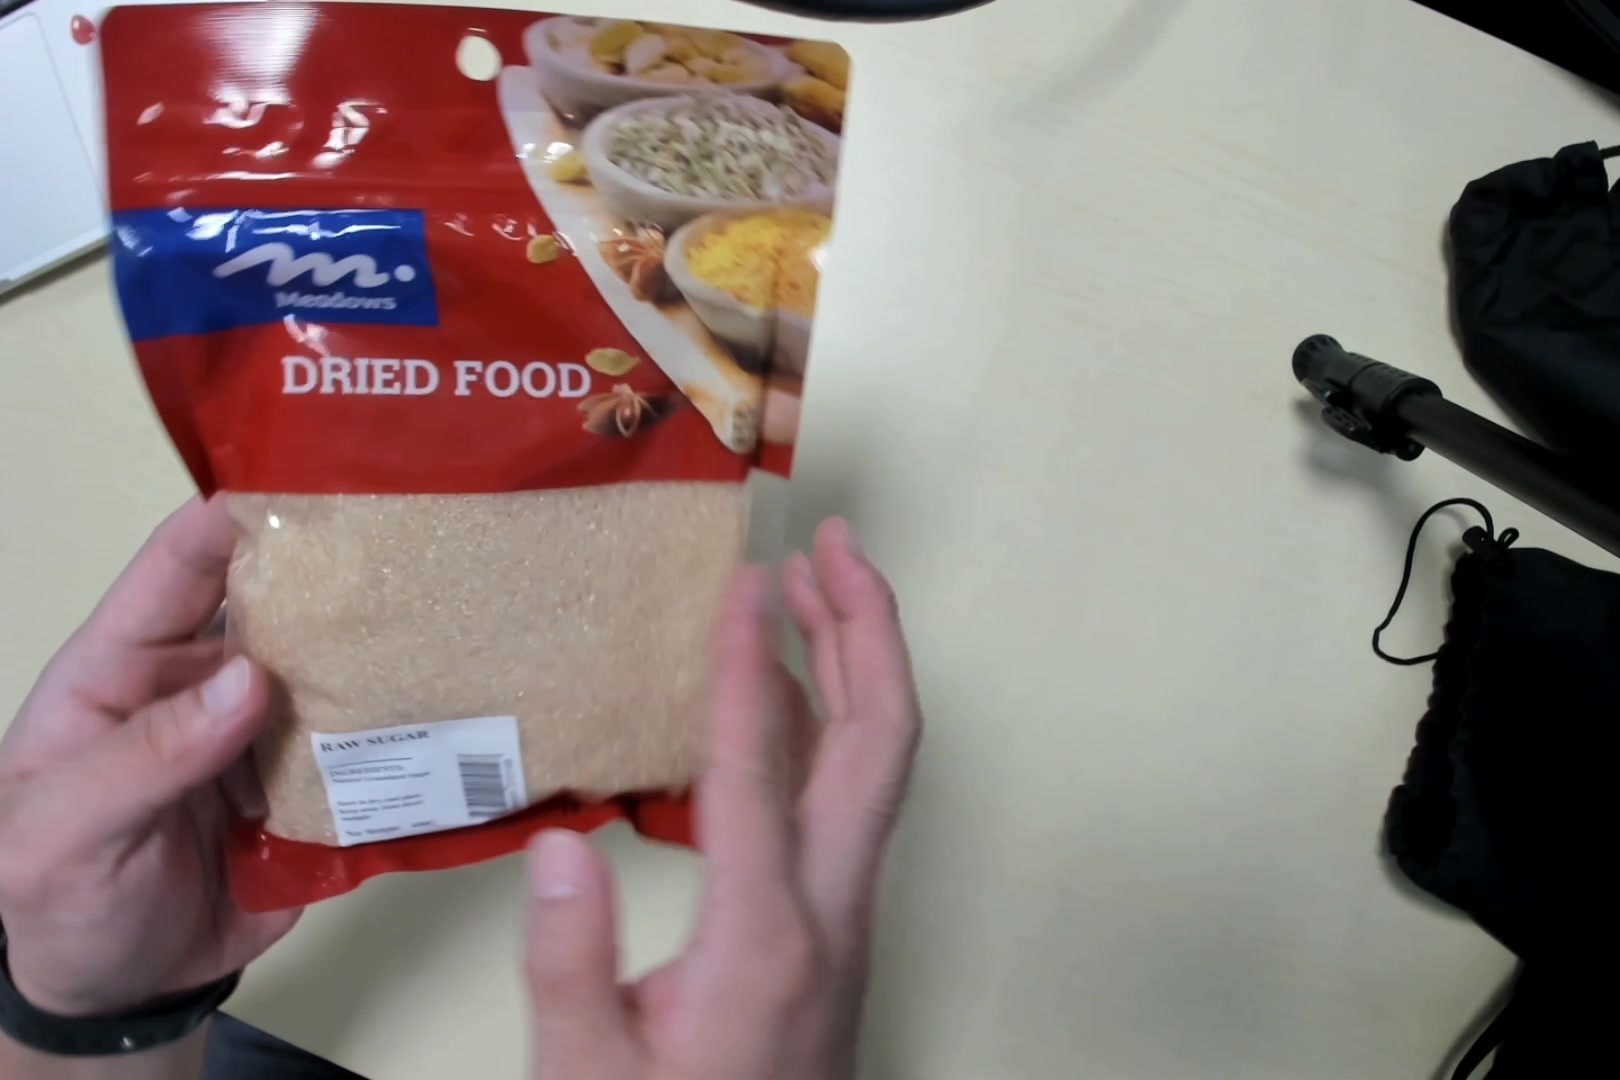Suger_200-299g_Halal_NonHealthy: (108, 10, 834, 886)
